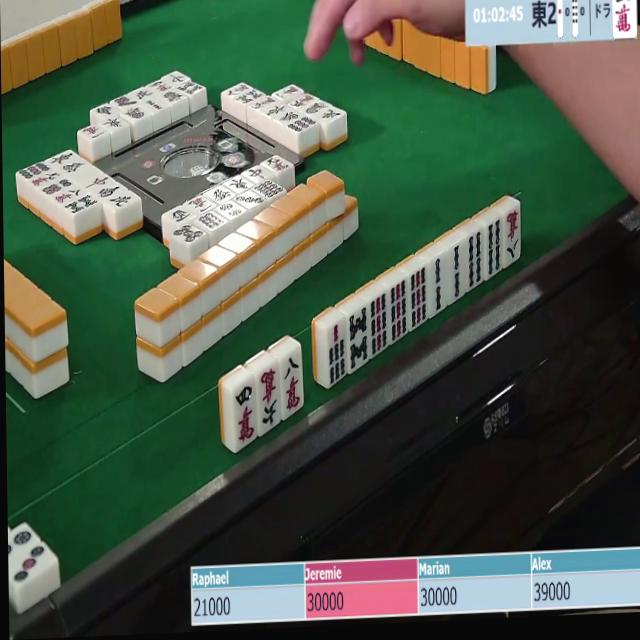m3: (614, 0, 637, 38)
m4: (231, 381, 258, 450)
m6: (256, 364, 282, 430)
m8: (280, 352, 305, 418), (502, 206, 521, 266)
s2: (428, 253, 448, 316), (448, 241, 467, 303)
s4: (464, 230, 485, 293), (485, 219, 505, 281)
s7: (327, 320, 350, 387)
s8: (349, 307, 371, 373)
s9: (388, 279, 411, 345), (367, 292, 389, 358), (409, 265, 431, 330)
t3: (9, 542, 52, 589)
